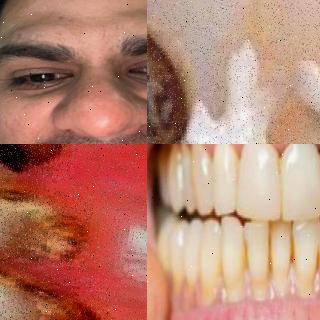calculus: (297, 144, 320, 166)
cavities: (147, 0, 231, 144), (0, 190, 120, 276), (4, 287, 128, 320), (0, 144, 68, 188)
stains: (260, 222, 276, 293), (285, 222, 304, 278), (232, 229, 254, 275), (312, 235, 320, 281)
